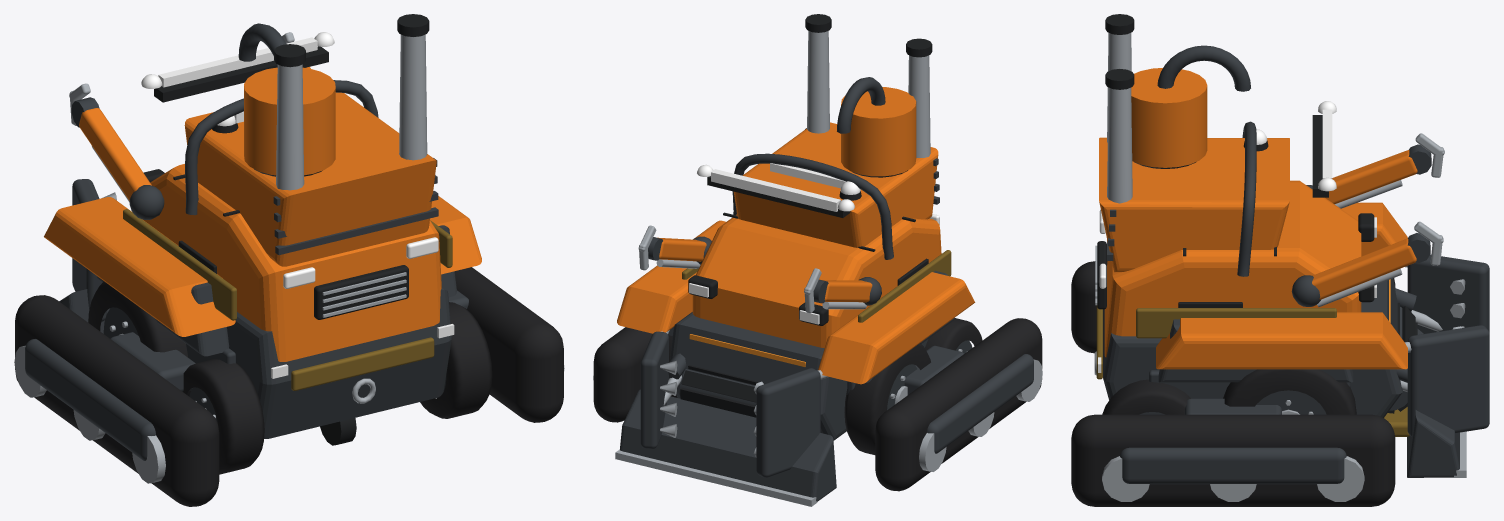
Rendered from Machine_collector_T5.glb.
3 views of the same model, side by side, from view 1: azimuth 30°, elevation 25°; view 2: azimuth 150°, elevation 25°; view 3: azimuth 270°, elevation 25° (orthographic). The views are drawn at different scales.
Parts seen in each view (by area): view 1: Tier2_Parts_MAT_Player_Shell_18, Tier4_Parts_MAT_tread_39, Body_Shell_0, Tier1_Parts_MAT_Player_Gunmetal_9, Axle_Rear_MAT_tread_14, Tier4_Parts_MAT_steel_41, Tier4_Parts_MAT_Player_Gunmetal_40, Cyclone_Drum_38, Tier1_Parts_MAT_darkTrim_10, Tier4_Parts_MAT_darkTrim_43, Tier1_Parts_MAT_Player_Hazard_12, Tier3_Parts_MAT_Player_Gunmetal_33 (+10 smaller); view 2: Tier2_Parts_MAT_Player_Shell_18, Body_Shell_0, Tier4_Parts_MAT_tread_39, Tier2_Parts_MAT_Player_Gunmetal_19, Tier1_Parts_MAT_Player_Gunmetal_9, Tier4_Parts_MAT_Player_Gunmetal_40, Jaw_L_Plate_34, Tier4_Parts_MAT_steel_41, Cyclone_Drum_38, Axle_Front_MAT_tread_6, Jaw_R_Plate_36, Tier3_Parts_MAT_Player_Gunmetal_33 (+13 smaller); view 3: Tier2_Parts_MAT_Player_Shell_18, Tier4_Parts_MAT_tread_39, Body_Shell_0, Tier4_Parts_MAT_Player_Gunmetal_40, Jaw_R_Plate_36, Tier1_Parts_MAT_Player_Gunmetal_9, Cyclone_Drum_38, Tier4_Parts_MAT_steel_41, Jaw_L_Plate_34, Axle_Front_MAT_tread_6, Tier2_Parts_MAT_Player_Gunmetal_19, Tier3_Parts_MAT_Player_Gunmetal_33 (+19 smaller).
Boxes of the visible parts, left/top/right/bottom form: Tier2_Parts_MAT_Player_Shell_18: left=44, top=92, right=481, bottom=336; Tier4_Parts_MAT_tread_39: left=15, top=267, right=563, bottom=506; Body_Shell_0: left=143, top=164, right=441, bottom=361; Tier1_Parts_MAT_Player_Gunmetal_9: left=97, top=225, right=456, bottom=438; Axle_Rear_MAT_tread_14: left=183, top=302, right=492, bottom=474; Tier4_Parts_MAT_steel_41: left=14, top=34, right=564, bottom=483; Tier4_Parts_MAT_Player_Gunmetal_40: left=25, top=23, right=468, bottom=460; Cyclone_Drum_38: left=244, top=67, right=335, bottom=175; Tier1_Parts_MAT_darkTrim_10: left=143, top=169, right=408, bottom=445; Tier4_Parts_MAT_darkTrim_43: left=154, top=14, right=429, bottom=102; Tier1_Parts_MAT_Player_Hazard_12: left=291, top=337, right=434, bottom=390; Tier3_Parts_MAT_Player_Gunmetal_33: left=185, top=80, right=378, bottom=363; Tier2_Parts_MAT_Player_Shell_18: left=617, top=122, right=975, bottom=384; Body_Shell_0: left=692, top=214, right=941, bottom=348; Tier4_Parts_MAT_tread_39: left=593, top=318, right=1042, bottom=491; Tier2_Parts_MAT_Player_Gunmetal_19: left=620, top=128, right=939, bottom=501; Tier1_Parts_MAT_Player_Gunmetal_9: left=668, top=270, right=954, bottom=440; Tier4_Parts_MAT_Player_Gunmetal_40: left=837, top=77, right=1033, bottom=453; Jaw_L_Plate_34: left=756, top=368, right=820, bottom=477; Tier4_Parts_MAT_steel_41: left=593, top=31, right=1042, bottom=471; Cyclone_Drum_38: left=841, top=87, right=916, bottom=176; Axle_Front_MAT_tread_6: left=668, top=335, right=930, bottom=454; Jaw_R_Plate_36: left=640, top=331, right=668, bottom=448; Tier3_Parts_MAT_Player_Gunmetal_33: left=732, top=153, right=928, bottom=394; Tier2_Parts_MAT_Player_Shell_18: left=1099, top=137, right=1407, bottom=369; Tier4_Parts_MAT_tread_39: left=1071, top=261, right=1395, bottom=506; Body_Shell_0: left=1104, top=180, right=1361, bottom=357; Tier4_Parts_MAT_Player_Gunmetal_40: left=1120, top=45, right=1346, bottom=484; Jaw_R_Plate_36: left=1407, top=325, right=1489, bottom=436; Tier1_Parts_MAT_Player_Gunmetal_9: left=1103, top=278, right=1402, bottom=417; Cyclone_Drum_38: left=1131, top=68, right=1207, bottom=167; Tier4_Parts_MAT_steel_41: left=1102, top=32, right=1364, bottom=501; Jaw_L_Plate_34: left=1407, top=254, right=1489, bottom=333; Axle_Front_MAT_tread_6: left=1223, top=369, right=1356, bottom=414; Tier2_Parts_MAT_Player_Gunmetal_19: left=1107, top=209, right=1459, bottom=477; Tier3_Parts_MAT_Player_Gunmetal_33: left=1149, top=121, right=1349, bottom=398.
Size of the model in its own units: 1.34 by 1.29 by 1.29.
